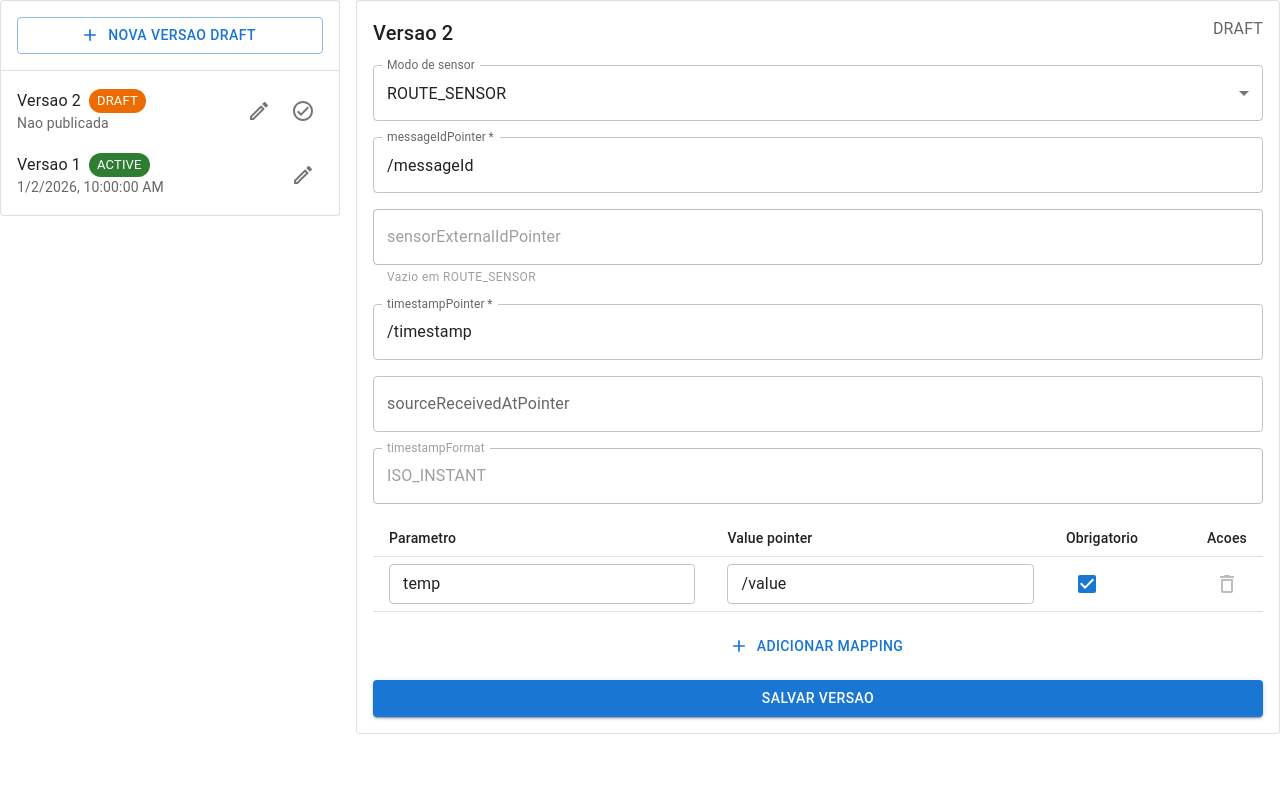
Test case: versions › does not retry activation conflict and requires a new confirmation
What coordinates should you click on to do the following:
click the button named "Ativar versao"
I would click on:
 (303, 110)
Its box is [283,90,323,130].
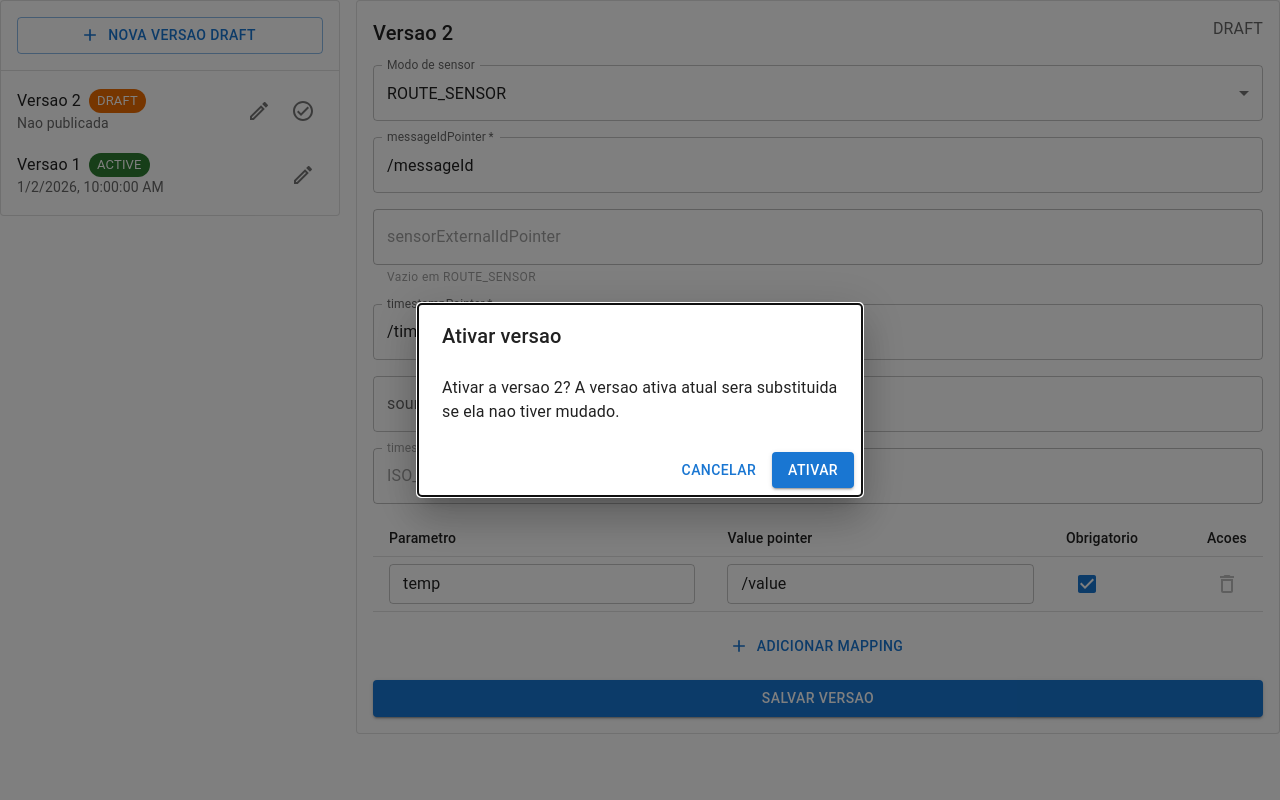
What coordinates should you click on to do the following:
click the button "Ativar"
I would click on:
 (813, 470)
Its box is [772,452,854,488].
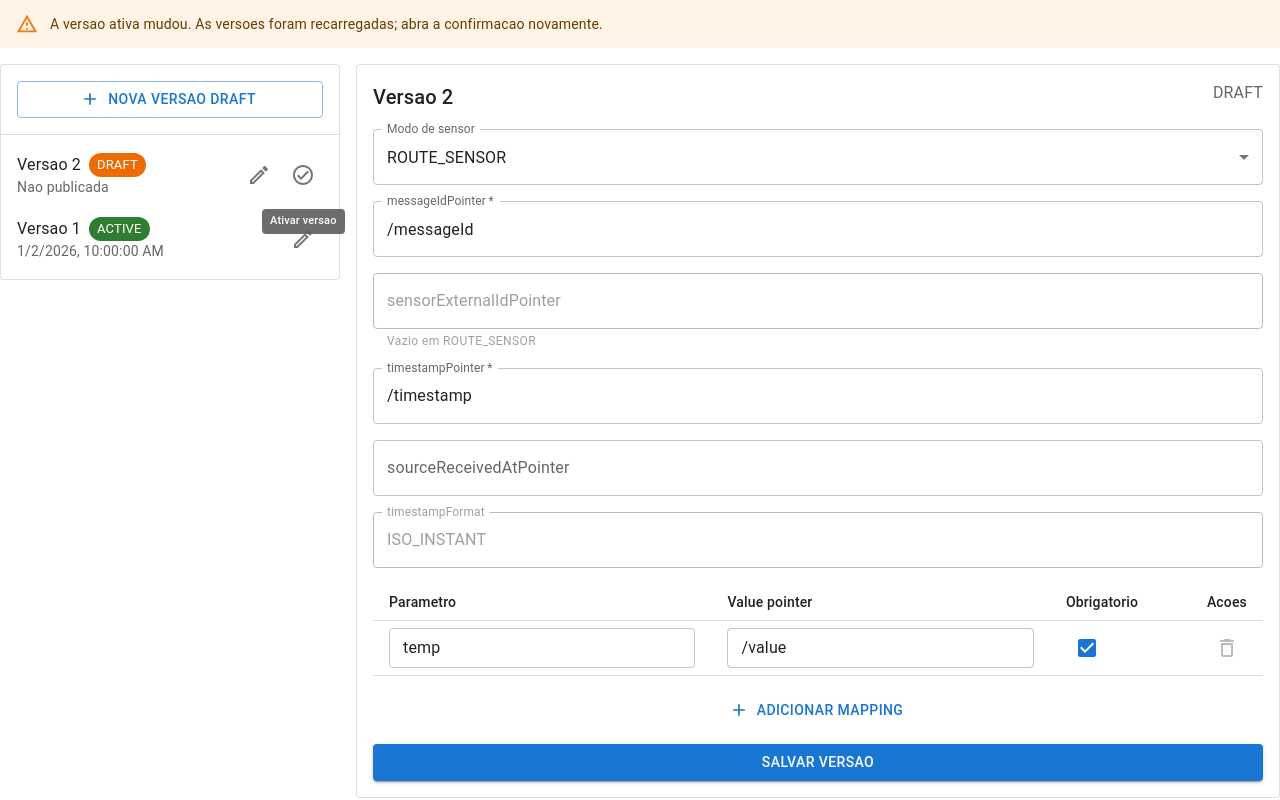
Check: the text "A versao ativa mudou" is shown, box [50,16,603,32]
Check: the dialog is gone
